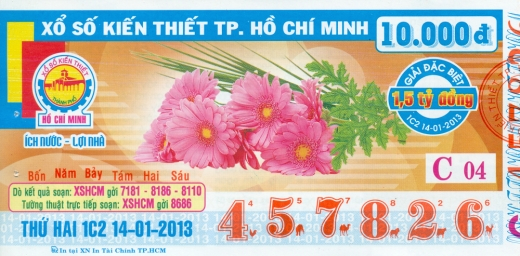serial_zone: (212, 190, 503, 244)
